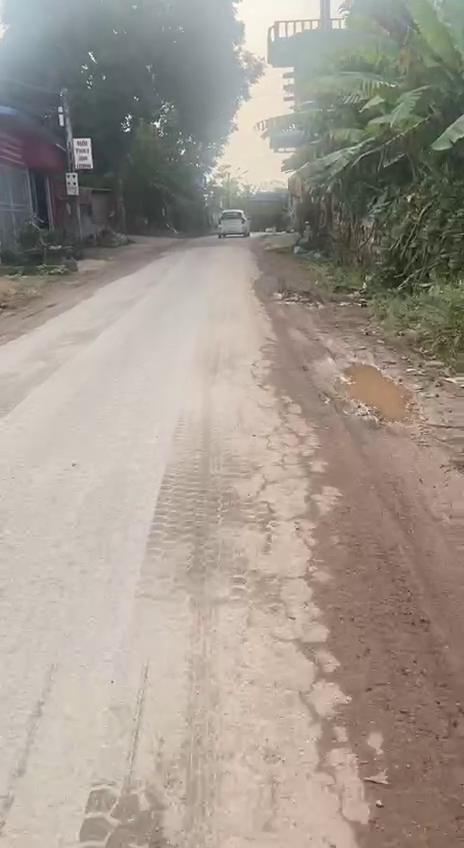pothole: (325, 349, 428, 434)
